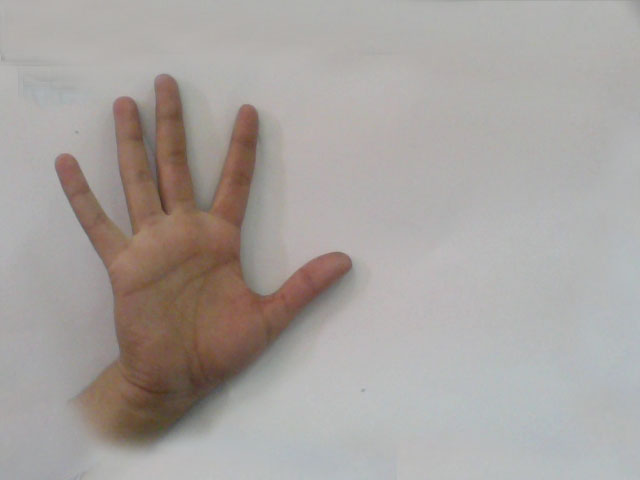hand: (48, 65, 363, 386)
